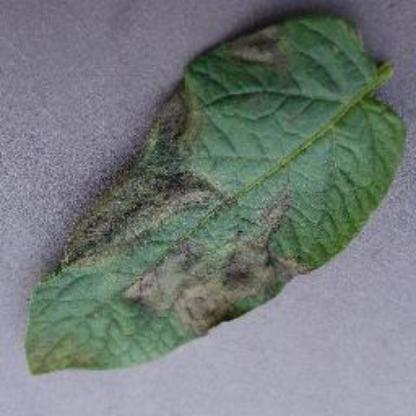Late-Blight: (27, 13, 407, 379)
